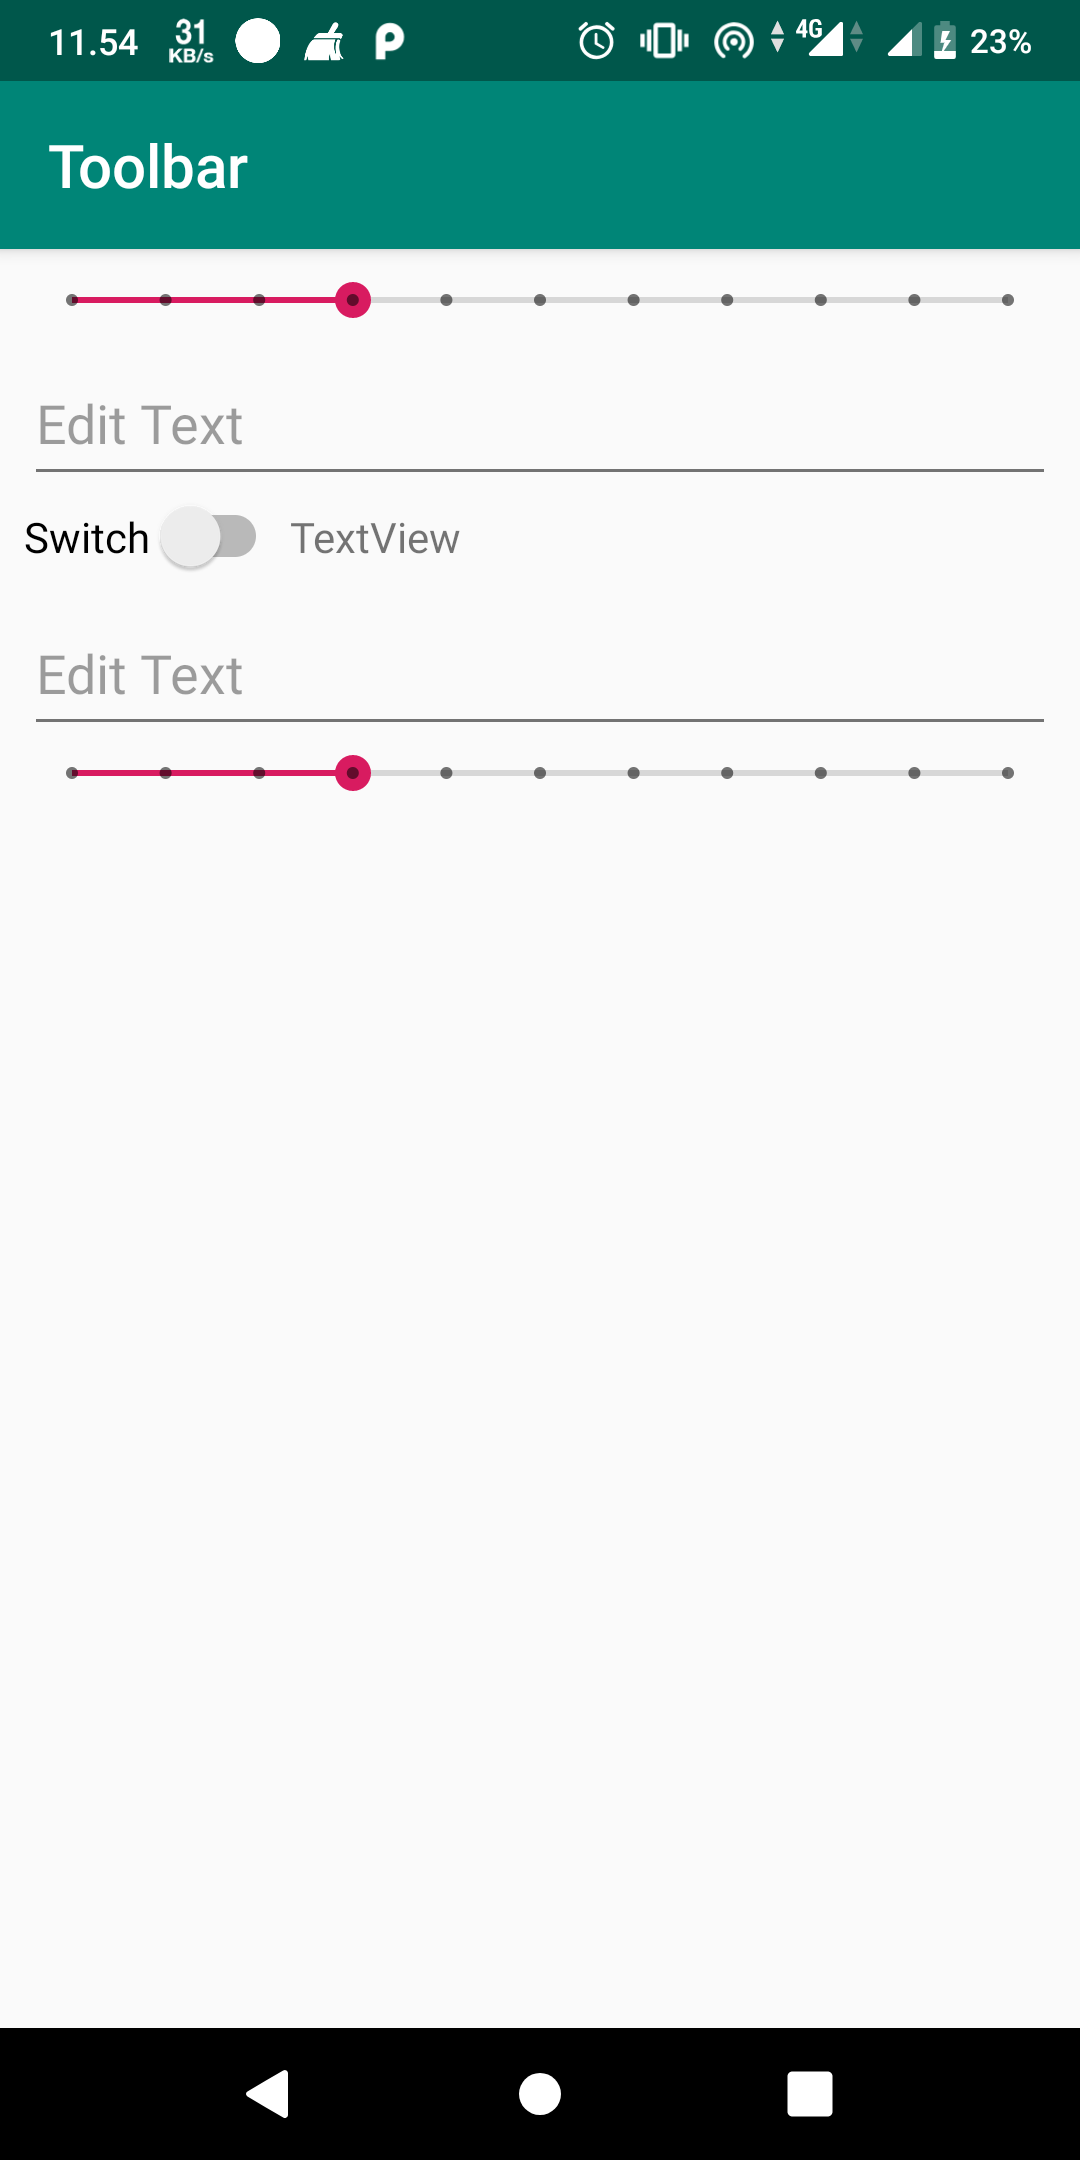editText: (22, 623, 1080, 742), (28, 377, 1051, 490)
slider: (48, 277, 1035, 328), (51, 758, 1061, 796)
switch: (15, 515, 260, 573)
textView: (282, 515, 470, 573)
toolbar: (6, 83, 1080, 249)
